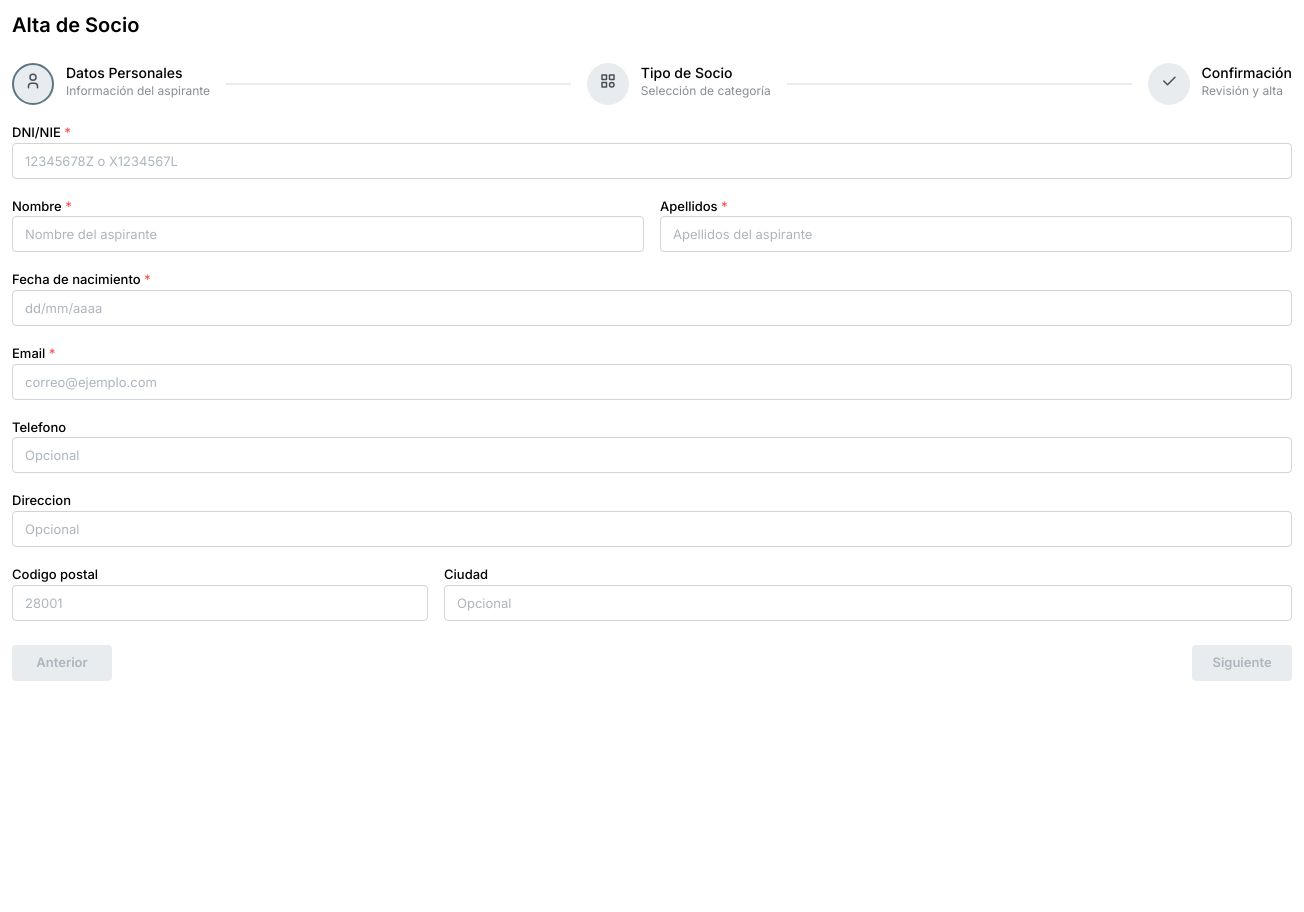
Test: Flujo de Alta de Socio (Integracion) › paso 1: datos personales › debe deshabilitar "Siguiente" hasta que los datos requeridos sean validos
This screenshot has width=1304, height=912.
expect the heading "Alta de Socio" is shown: met, box [12,13,139,37]
expect the button "Siguiente" is disabled: met, box [1192,645,1292,681]
In the field with placeholder "12345678Z o X1234567L": (652, 161) [12,143,1292,179], type "12345678Z"
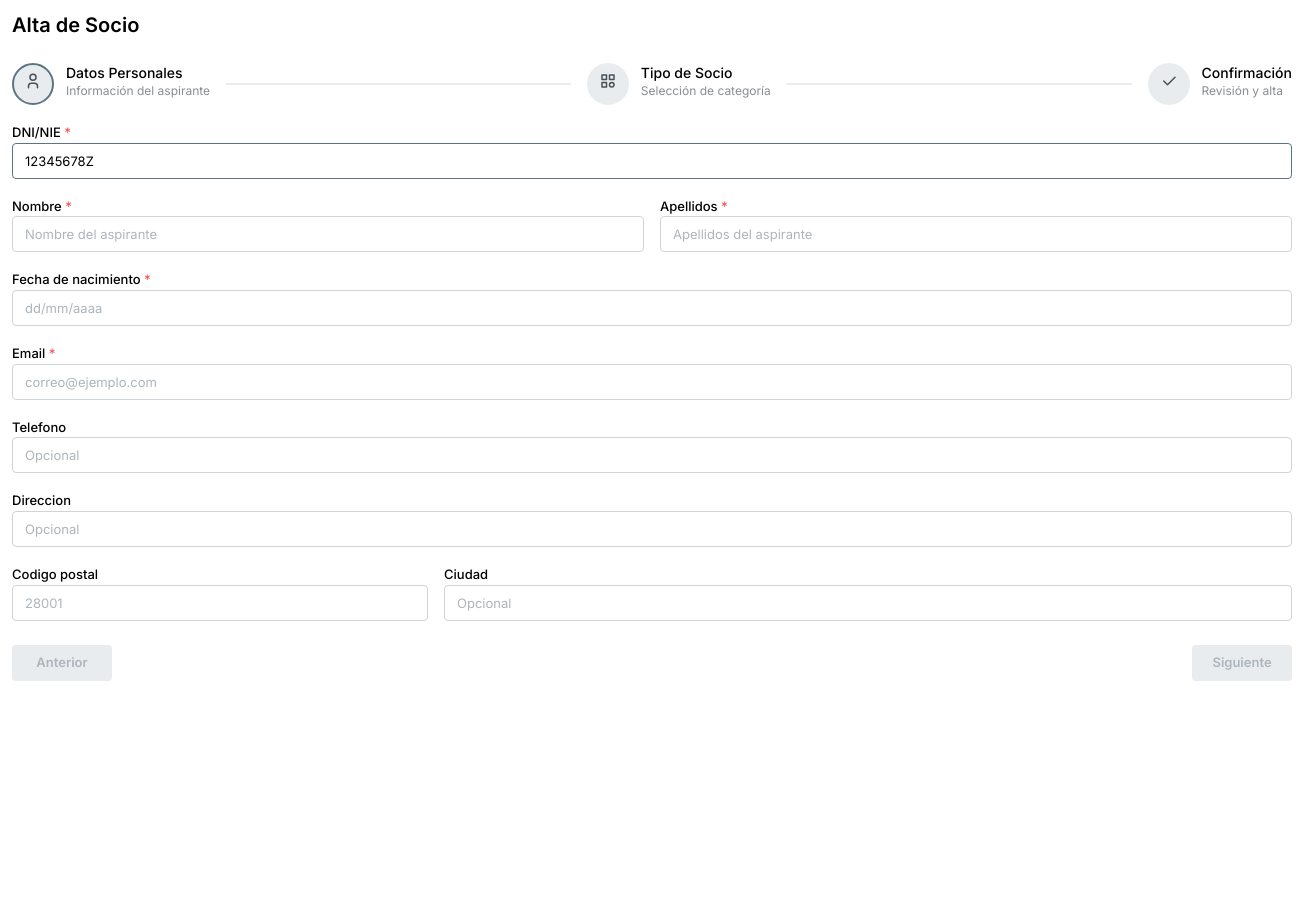
In the field with placeholder "Nombre del aspirante": (328, 234) [12,216,644,252], type "Maria"
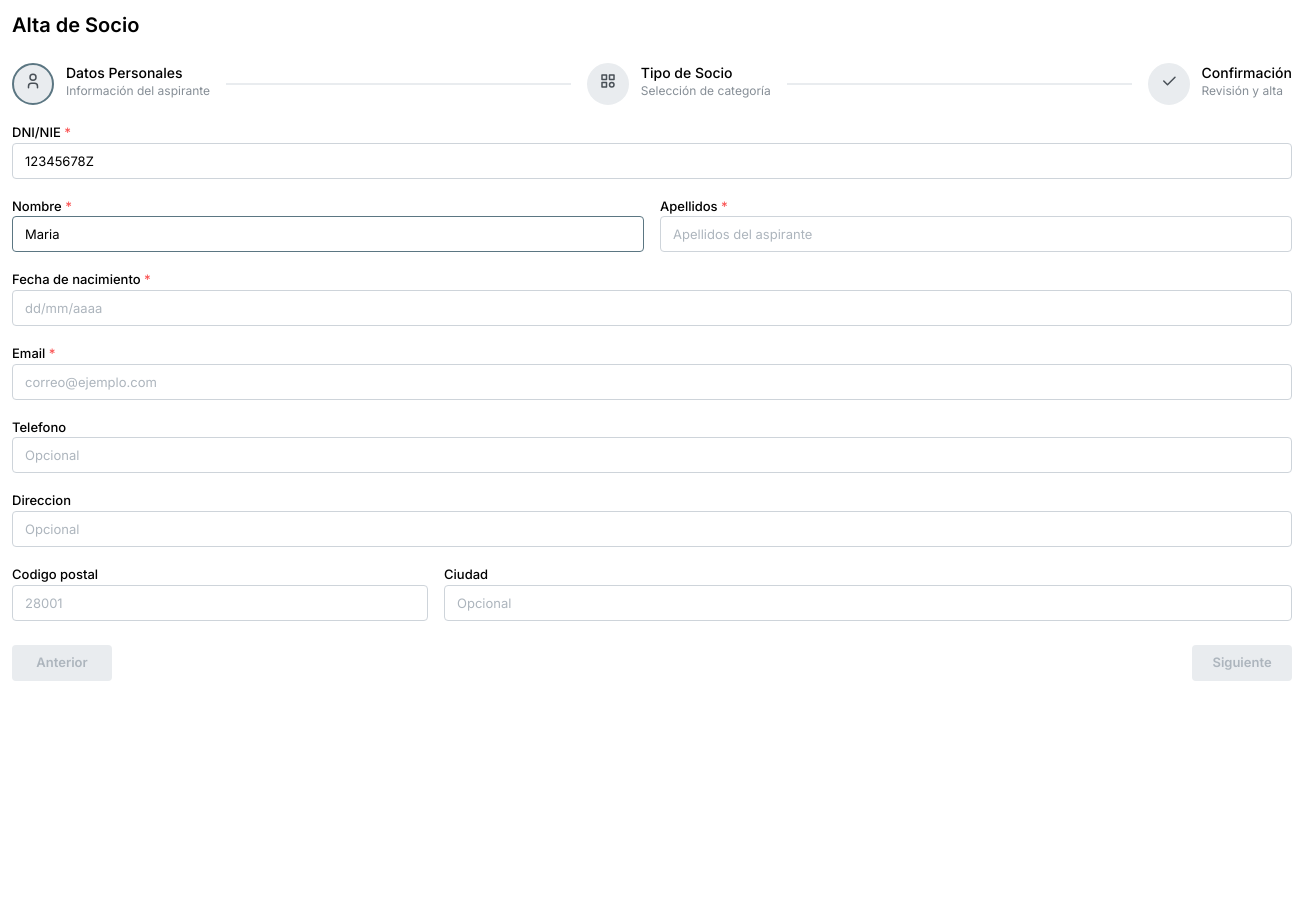
In the field with placeholder "Apellidos del aspirante": (976, 234) [660,216,1292,252], type "Garcia Lopez"
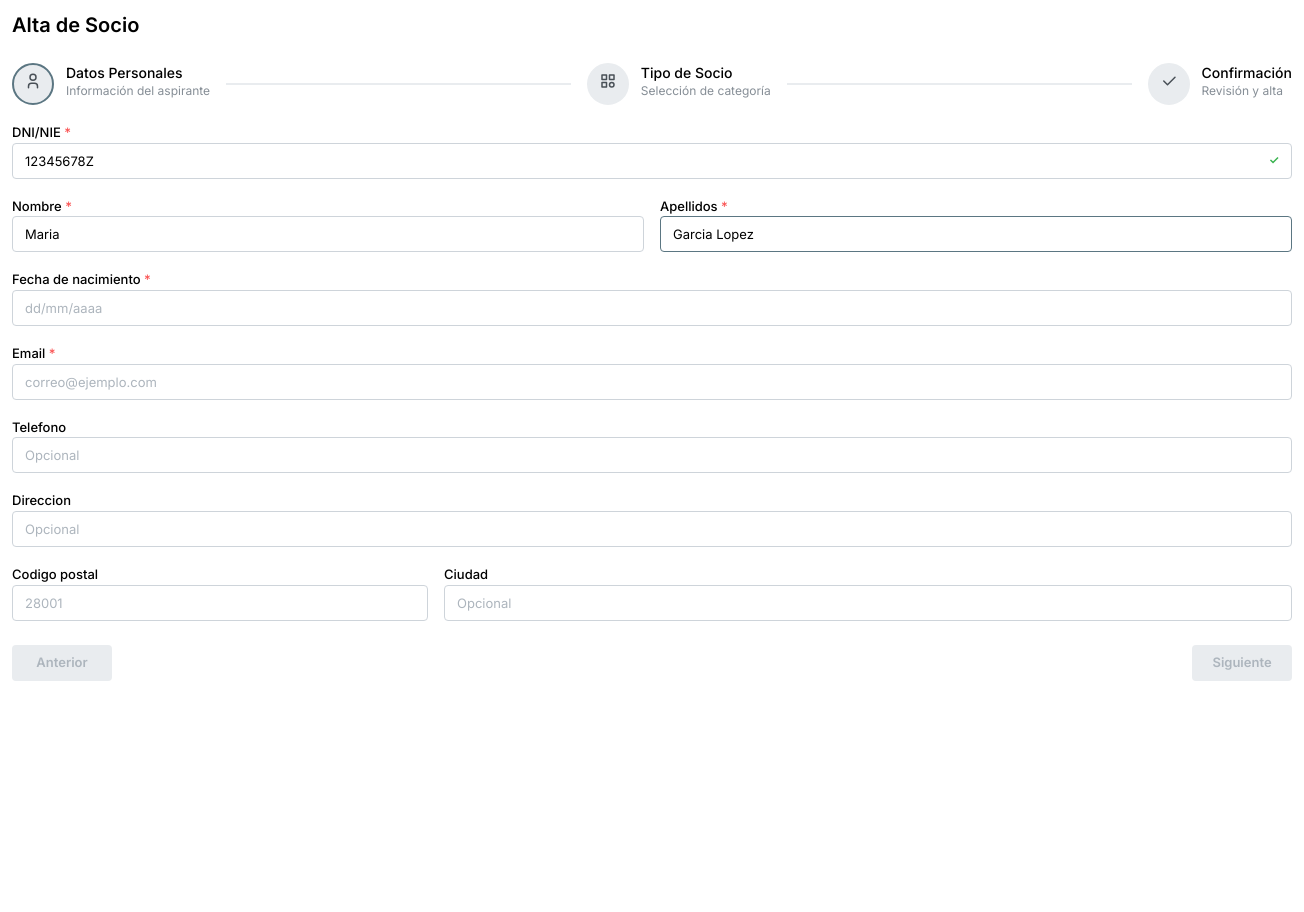
In the field with placeholder "dd/mm/aaaa": (652, 308) [12,290,1292,326], type "15/06/1990"
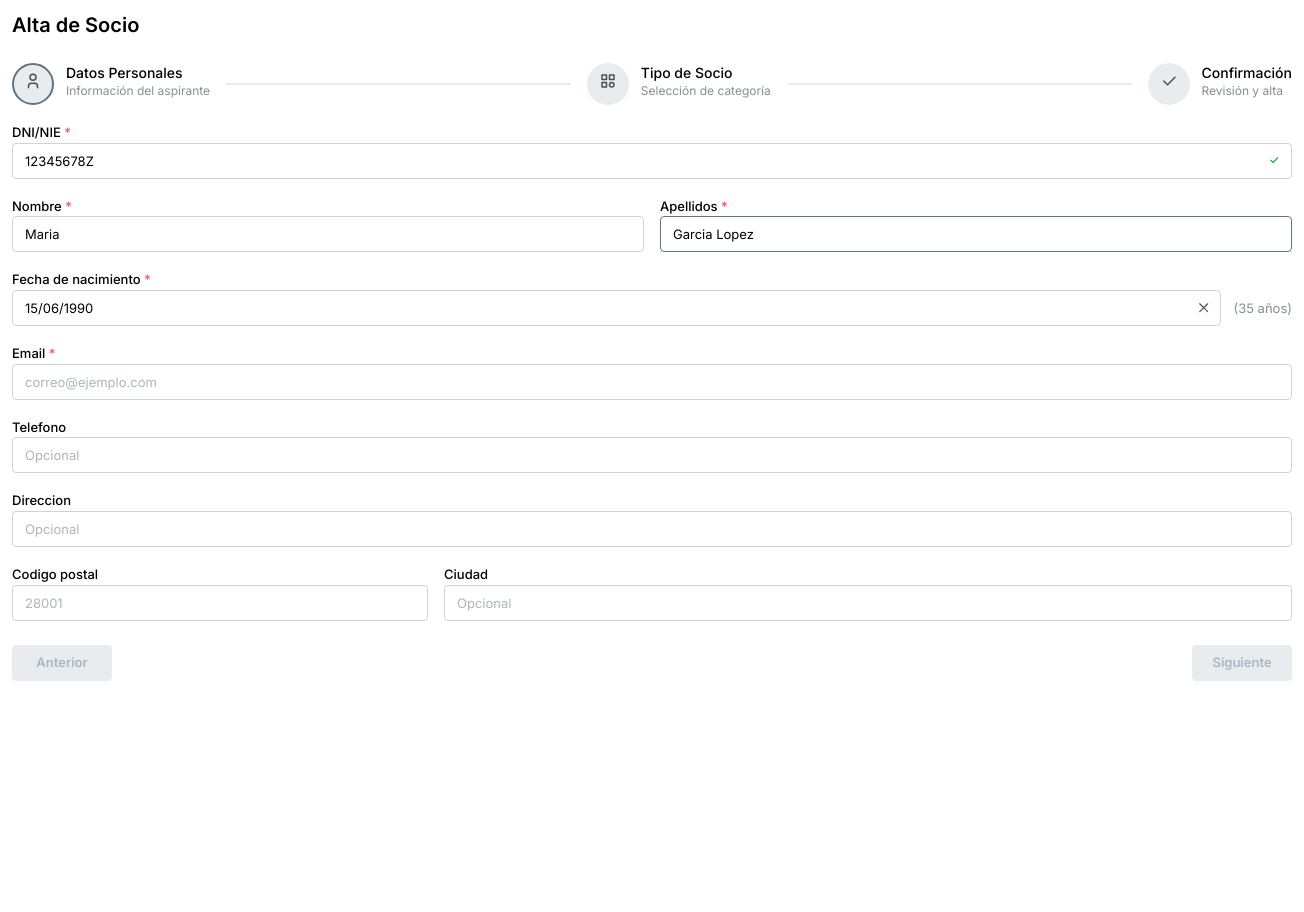
In the field with placeholder "correo@ejemplo.com": (652, 382) [12,364,1292,400], type "maria.garcia@ejemplo.com"
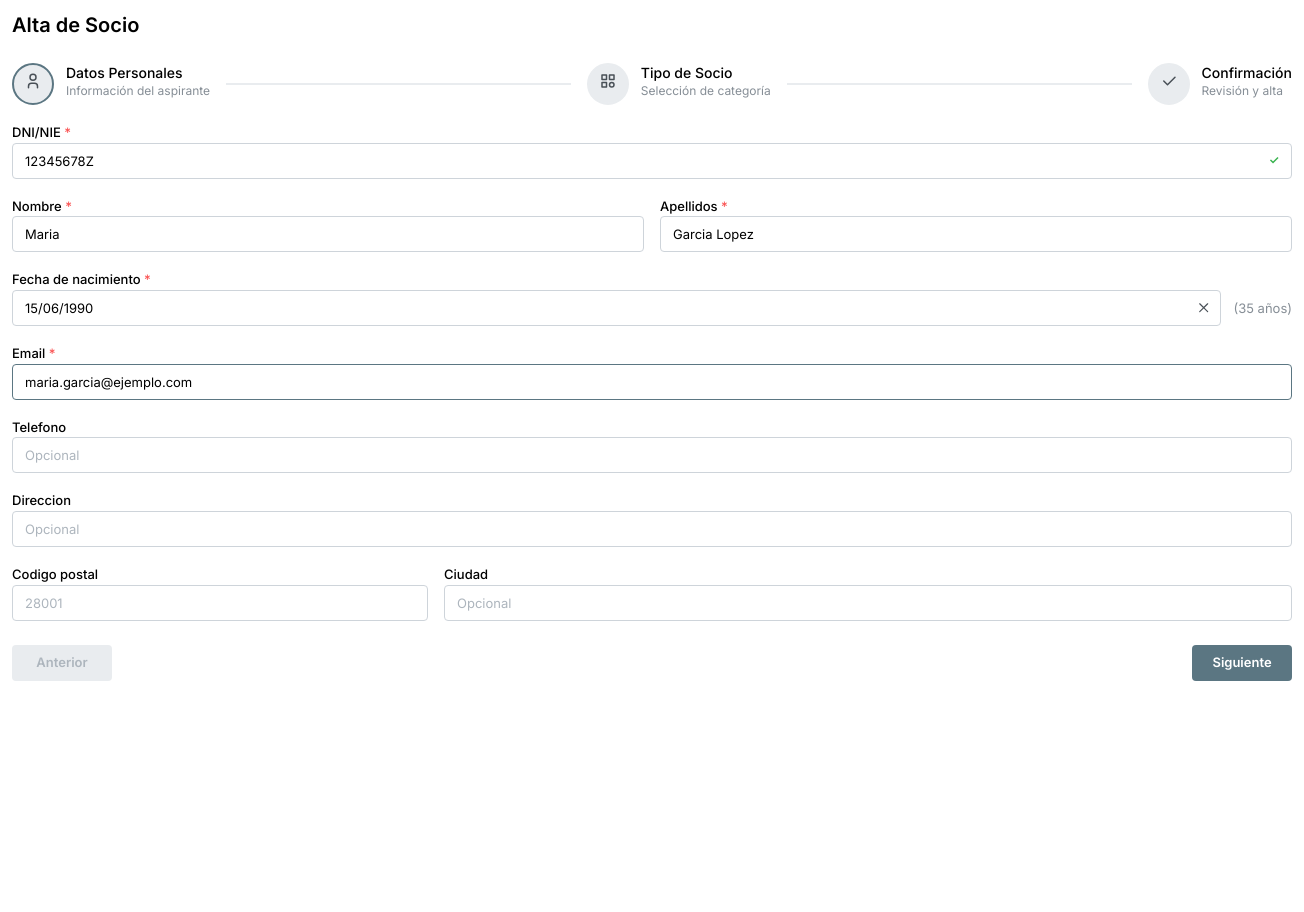
expect the button "Siguiente" is enabled: met, box [1192,645,1292,681]
